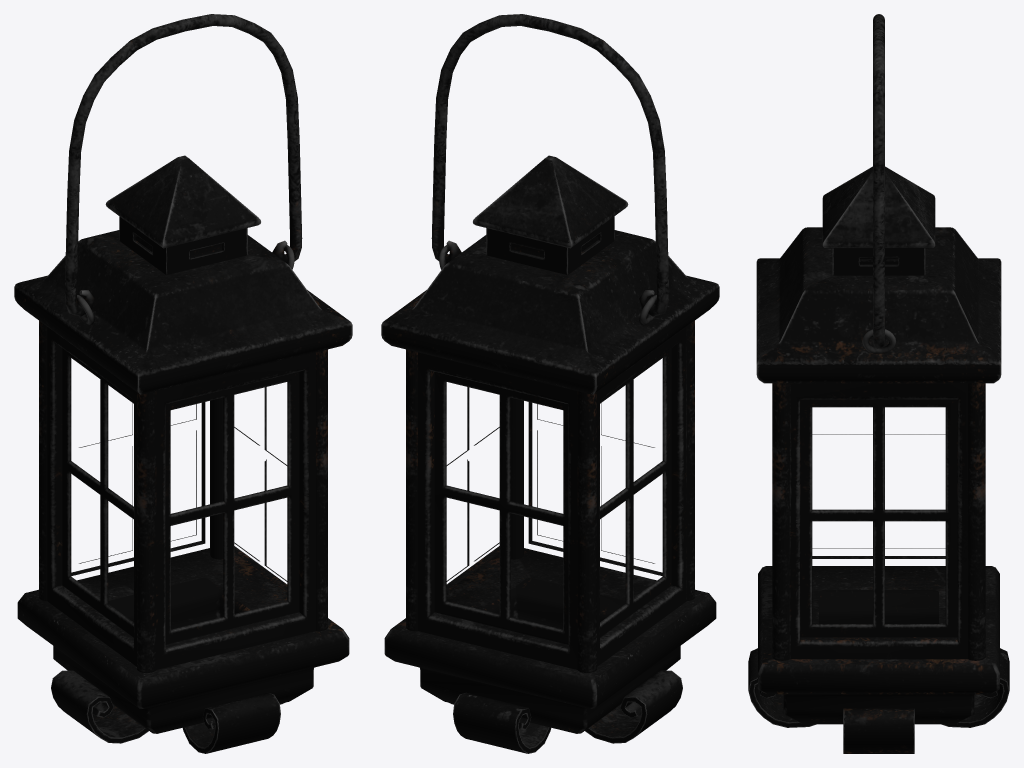
File: laalten.fbx
The picture shows the model from 3 angles, left to right: view 1: azimuth 30°, elevation 25°; view 2: azimuth 150°, elevation 25°; view 3: azimuth 270°, elevation 25°; orthographic projection.
Visible parts, largest first — view 1: lantern1; view 2: lantern1; view 3: lantern1.
Boxes of the visible parts, x1,y1,x2,y2 form: lantern1: [14, 14, 352, 753]; lantern1: [381, 14, 719, 753]; lantern1: [748, 14, 1009, 753].
Bounding box in the file's own units: 89.76 × 251 × 87.18.
